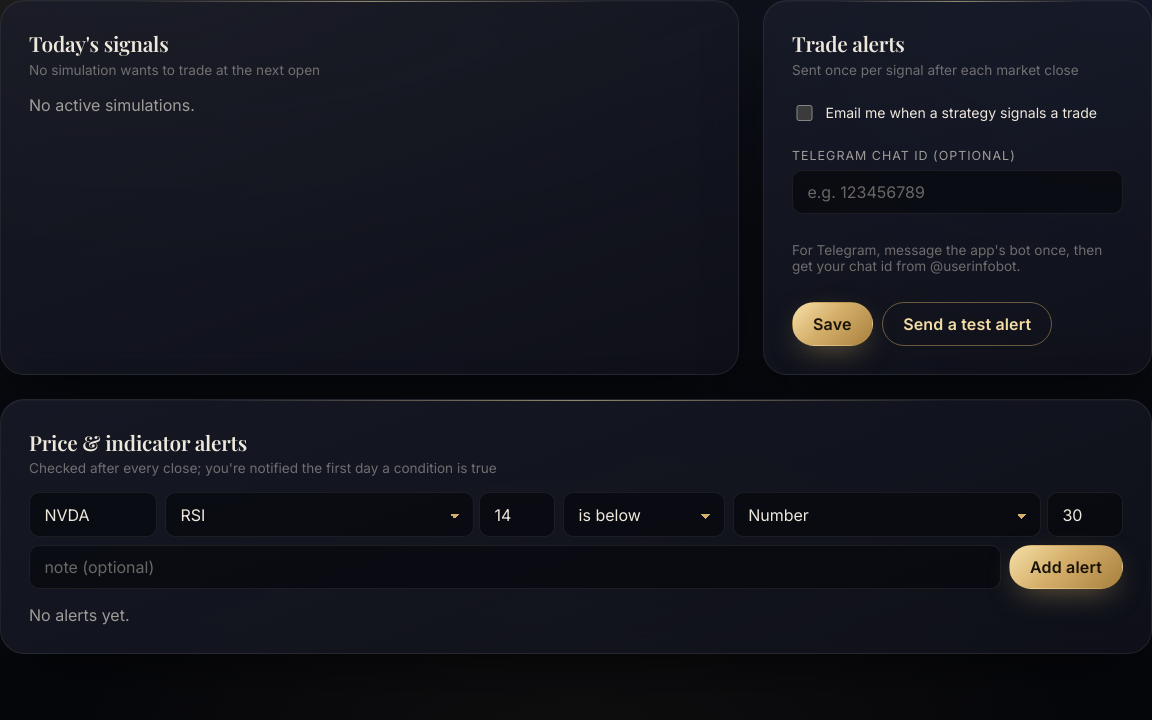
Test: watch alerts › adds an indicator alert and lists its status
Expected: the text "No alerts yet." is shown, top-left (29, 605), bottom-right (130, 625)
Click the button "Add alert" at (1066, 567), box top-left (1009, 545), bottom-right (1123, 589)
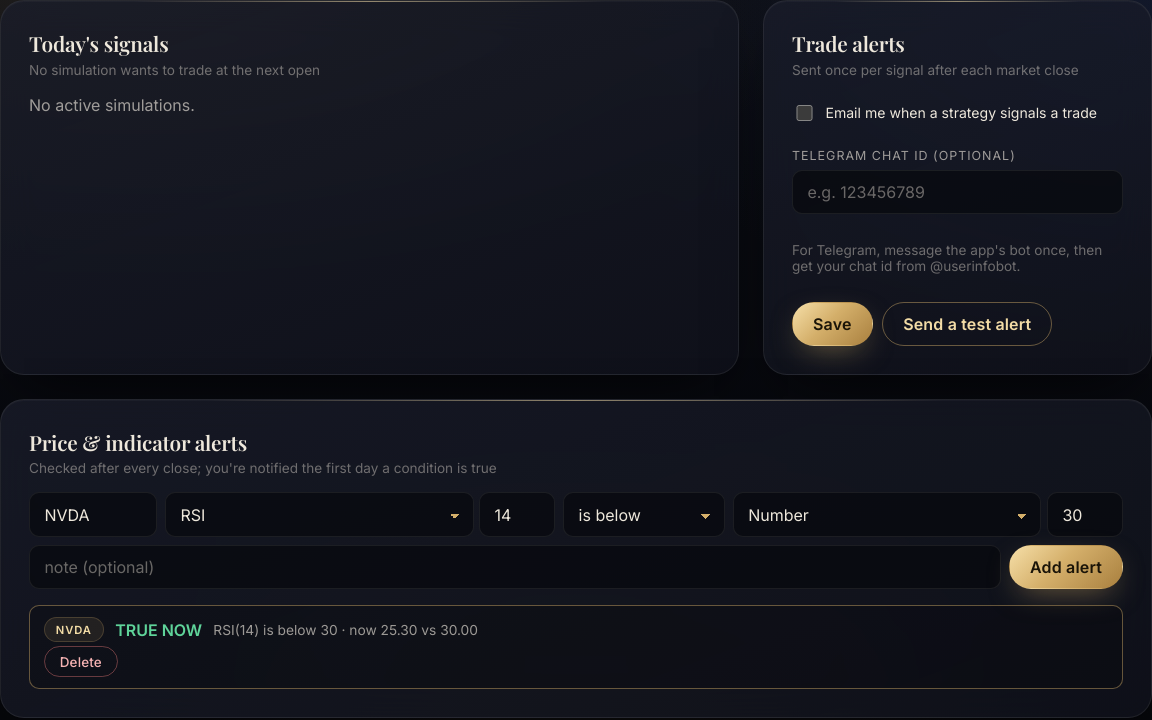
Now the text "TRUE NOW" is shown, box top-left (115, 620), bottom-right (202, 640)
Now the text "RSI(14) is below 30 · now 25.30 vs 30.00" is shown, box top-left (213, 622), bottom-right (478, 638)
